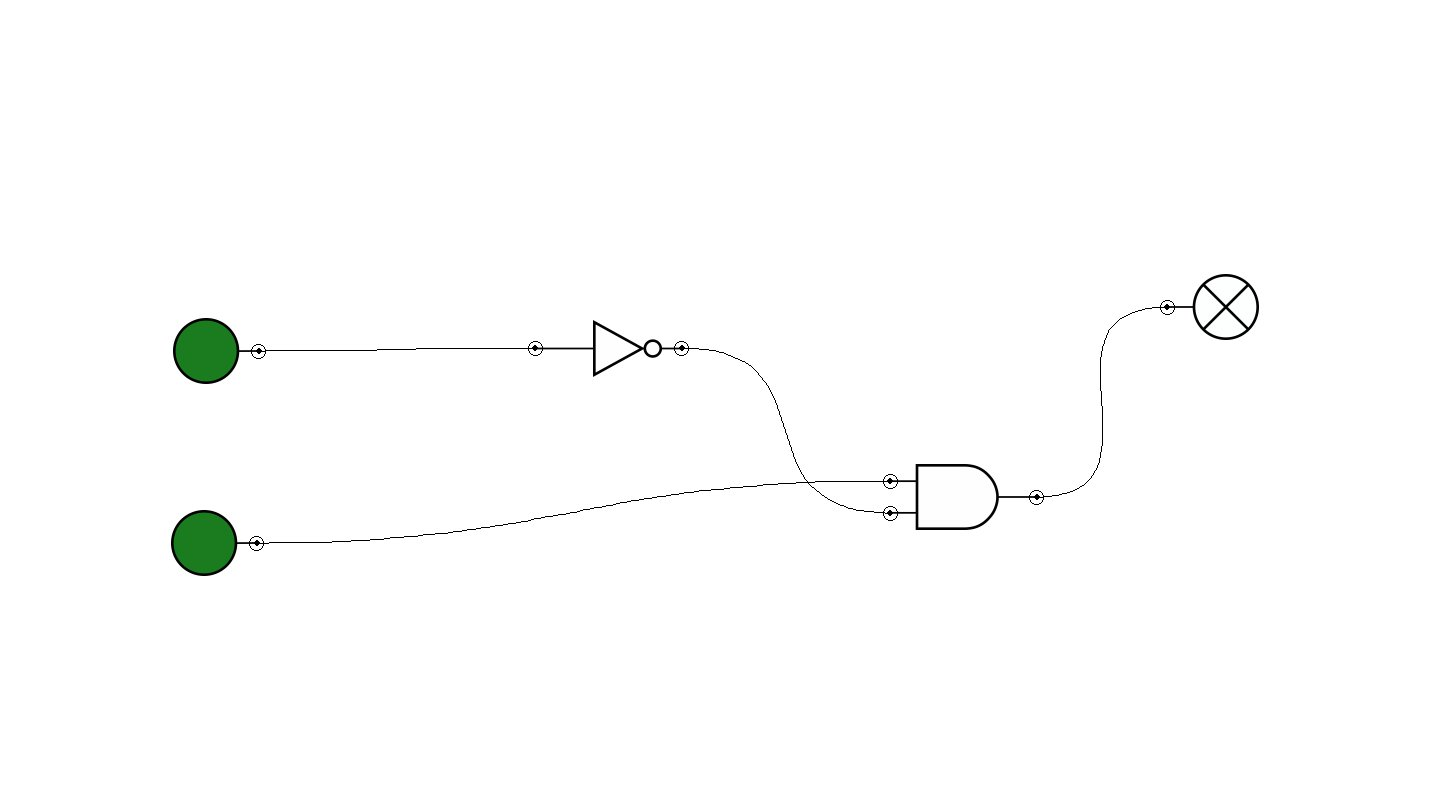and: (883, 464, 1044, 530)
bulb: (1160, 274, 1259, 340)
not: (528, 320, 689, 377)
switch_True: (173, 318, 266, 384), (171, 510, 264, 576)
